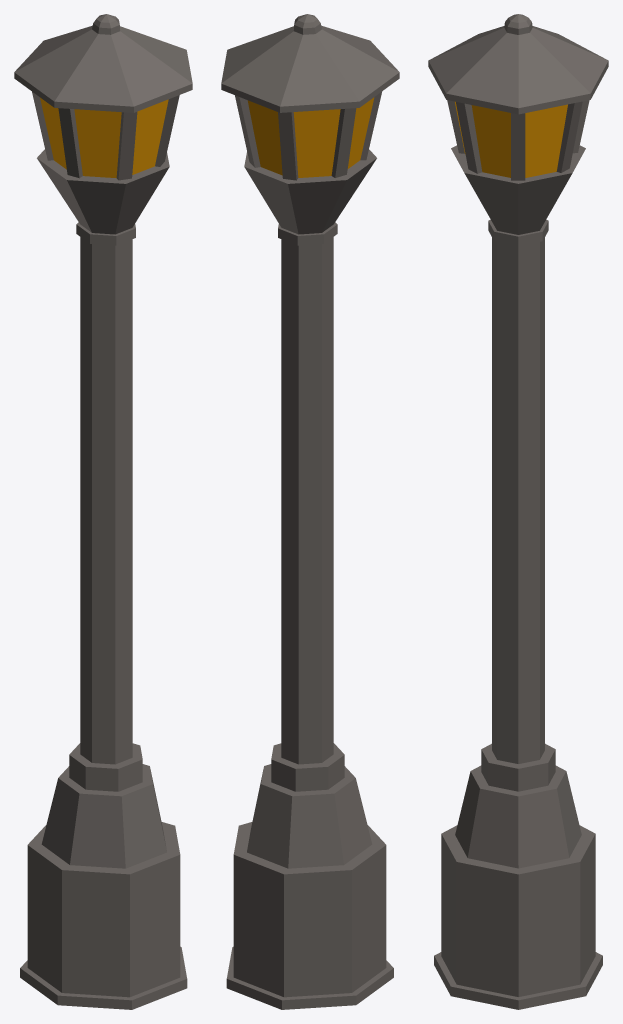
Rendered from StreetLamp.fbx.
3 views of the same model, side by side, from view 1: azimuth 30°, elevation 25°; view 2: azimuth 150°, elevation 25°; view 3: azimuth 270°, elevation 25° (orthographic).
Visible parts, largest first — view 1: pCylinder4, pCylinder3; view 2: pCylinder4, pCylinder3; view 3: pCylinder4, pCylinder3.
Boxes of the visible parts, x1=… form: pCylinder4: x1=14, y1=14, x2=192, y2=1009; pCylinder3: x1=40, y1=97, x2=168, y2=178; pCylinder4: x1=221, y1=14, x2=399, y2=1009; pCylinder3: x1=247, y1=97, x2=374, y2=177; pCylinder4: x1=428, y1=14, x2=608, y2=1009; pCylinder3: x1=455, y1=101, x2=567, y2=177.
Size of the model in its own units: 2.87 by 17.31 by 2.95.
